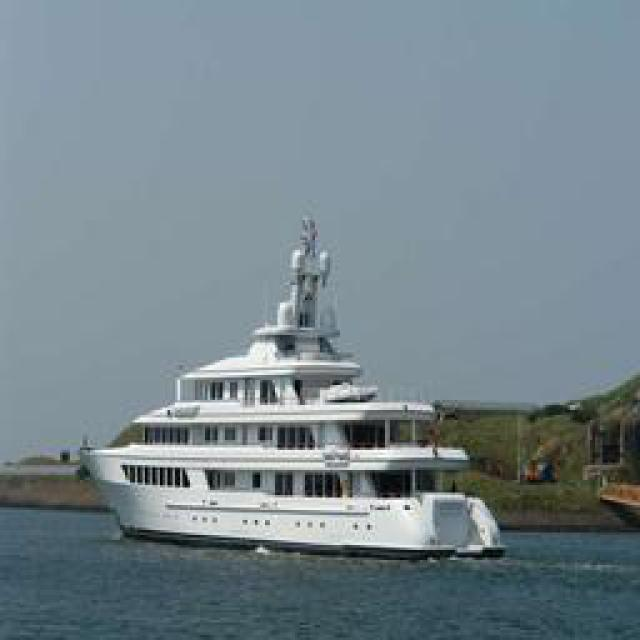Ship: (83, 204, 508, 564)
